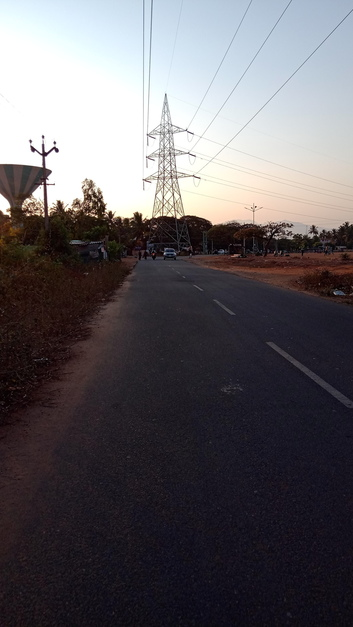bump: (135, 257, 193, 260)
